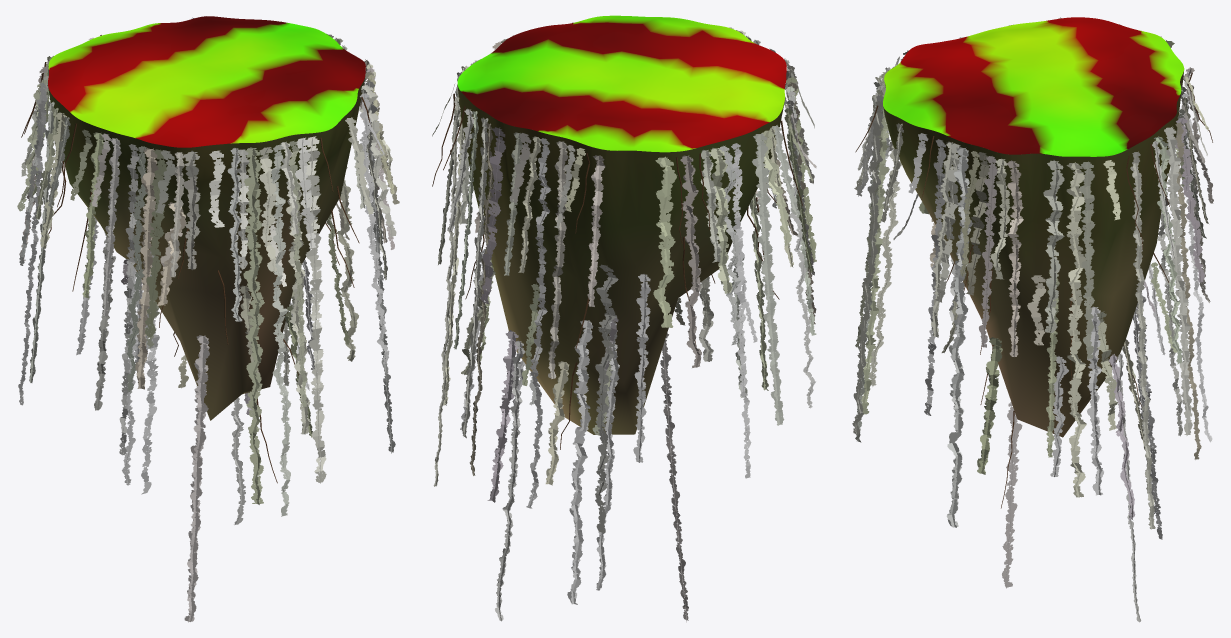
The model's file is SM_H18_Floater05.fbx.
The picture shows the model from 3 angles, left to right: view 1: azimuth 30°, elevation 25°; view 2: azimuth 150°, elevation 25°; view 3: azimuth 270°, elevation 25°; orthographic projection. The views are drawn at different scales.
Parts seen in each view (by area): view 1: SM_H18_Floater05, SM_H18_Floater05_Ivy; view 2: SM_H18_Floater05, SM_H18_Floater05_Ivy; view 3: SM_H18_Floater05, SM_H18_Floater05_Ivy.
Boxes of the visible parts, x1,y1,x2,y2 form: SM_H18_Floater05: (48, 16, 365, 420); SM_H18_Floater05_Ivy: (17, 17, 399, 622); SM_H18_Floater05: (457, 15, 786, 434); SM_H18_Floater05_Ivy: (432, 22, 816, 622); SM_H18_Floater05: (883, 17, 1184, 437); SM_H18_Floater05_Ivy: (852, 17, 1213, 622).
Bounding box in the file's own units: 27.57 × 41.92 × 26.28.
